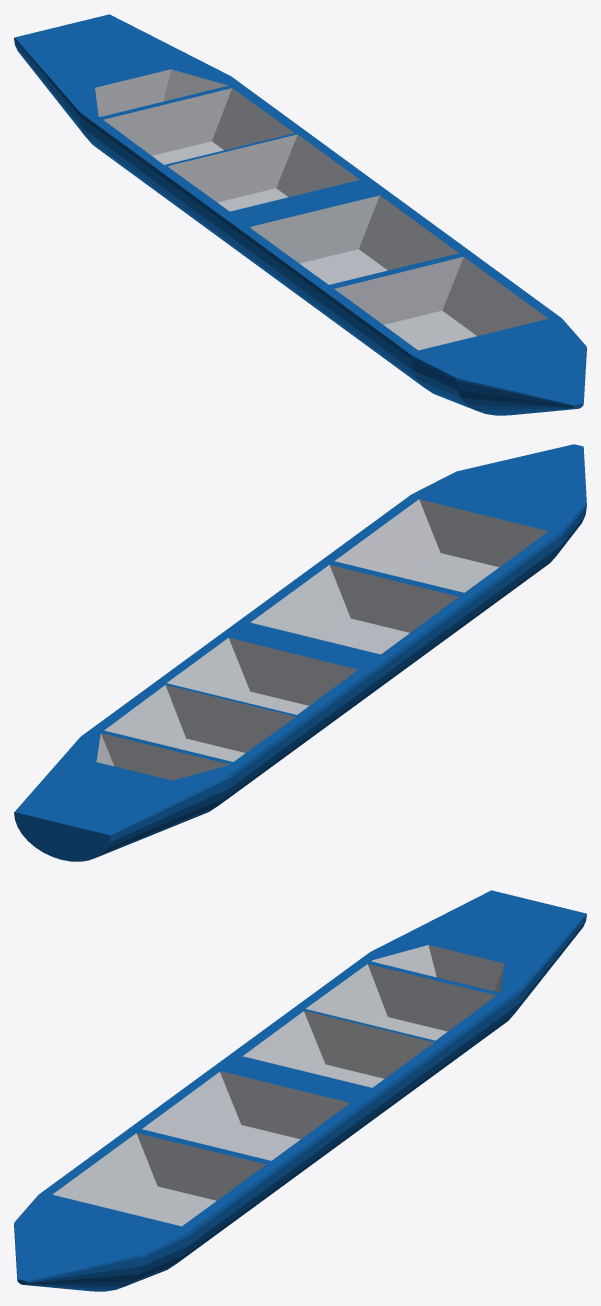
Rendered from cargo-model.glb.
3 renders of one model, top to bottom at view 1: azimuth 30°, elevation 25°; view 2: azimuth 150°, elevation 25°; view 3: azimuth 330°, elevation 25°, orthographic.
Visible parts, largest first — view 1: Cylinder; view 2: Cylinder; view 3: Cylinder.
Part boxes in pixels (x1=…): Cylinder: x1=14, y1=14, x2=586, y2=415; Cylinder: x1=14, y1=444, x2=586, y2=861; Cylinder: x1=14, y1=890, x2=586, y2=1291.
Size of the model in its own units: 0.6196 by 0.2352 by 3.66.
